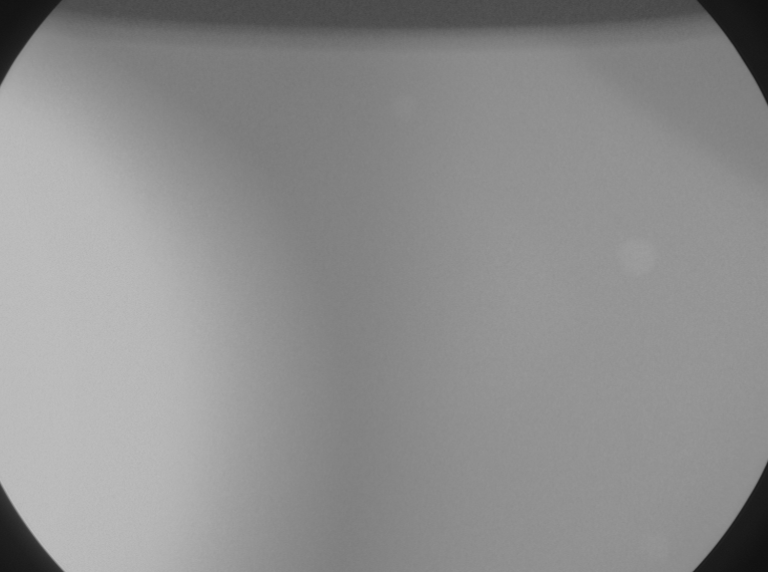defect: (389, 90, 423, 125)
